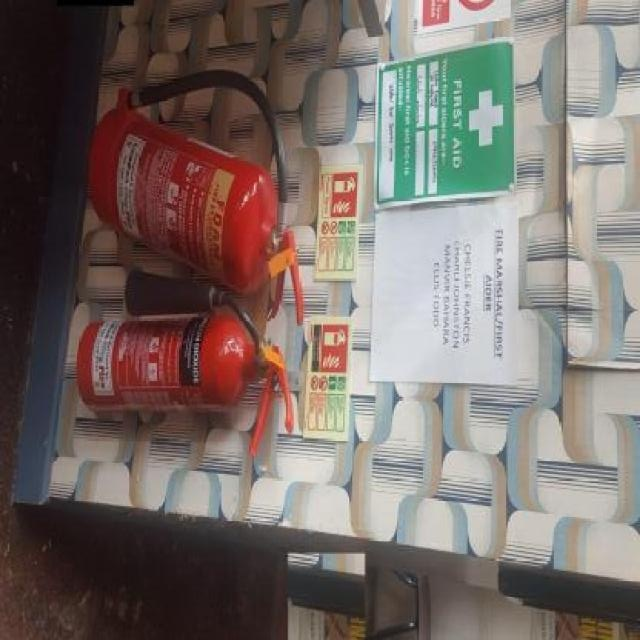fire extinguisher: (88, 73, 304, 327), (78, 272, 294, 456)
